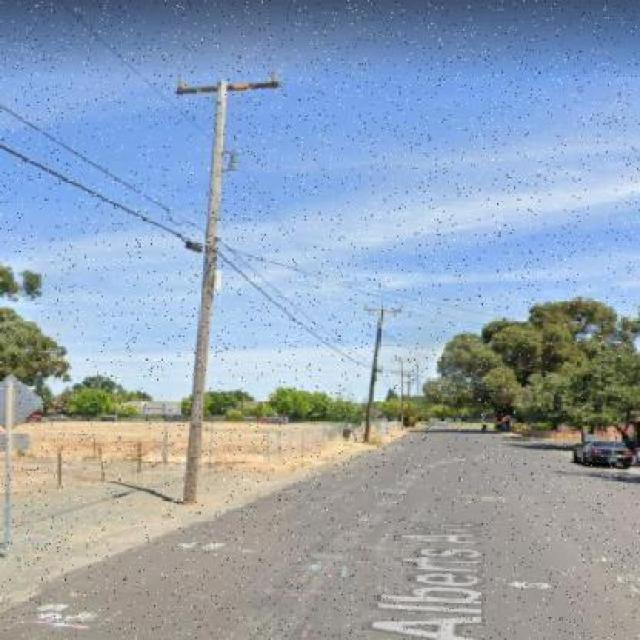pole: (153, 32, 290, 516), (352, 291, 410, 452)
